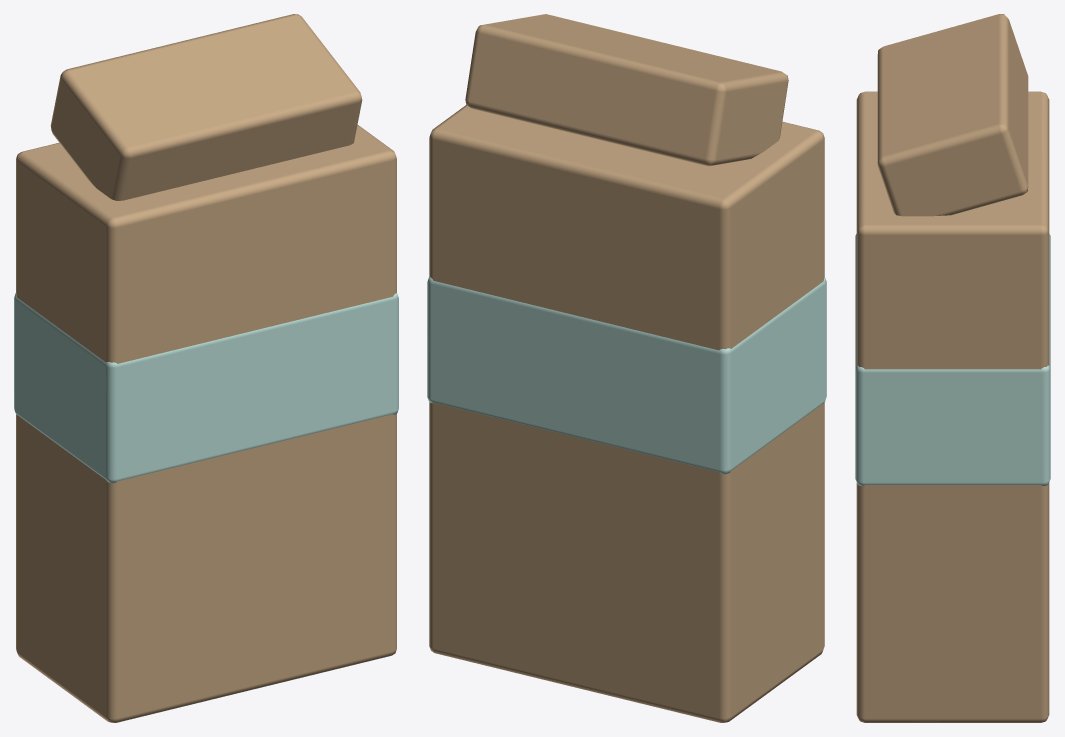
The model's file is SM_CoffeeBag.fbx.
3 renders of one model, left to right at view 1: azimuth 30°, elevation 25°; view 2: azimuth 150°, elevation 25°; view 3: azimuth 270°, elevation 25°, orthographic. The views are drawn at different scales.
Visible parts, largest first — view 1: SM_CoffeeBag; view 2: SM_CoffeeBag; view 3: SM_CoffeeBag.
Part boxes in pixels (<box>): SM_CoffeeBag: <box>14,14,398,722</box>; SM_CoffeeBag: <box>427,14,826,722</box>; SM_CoffeeBag: <box>855,14,1050,722</box>.
Size of the model in its own units: 0.121 by 0.2358 by 0.071.
